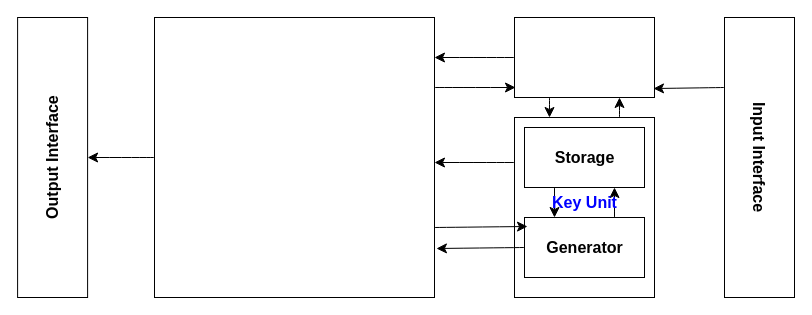
Image size: 812x315. Some labels were removed from this diagram. Each missing label, with the centre of its shape:
Controller: pixel 584 57
Data Unit: pixel 294 157
